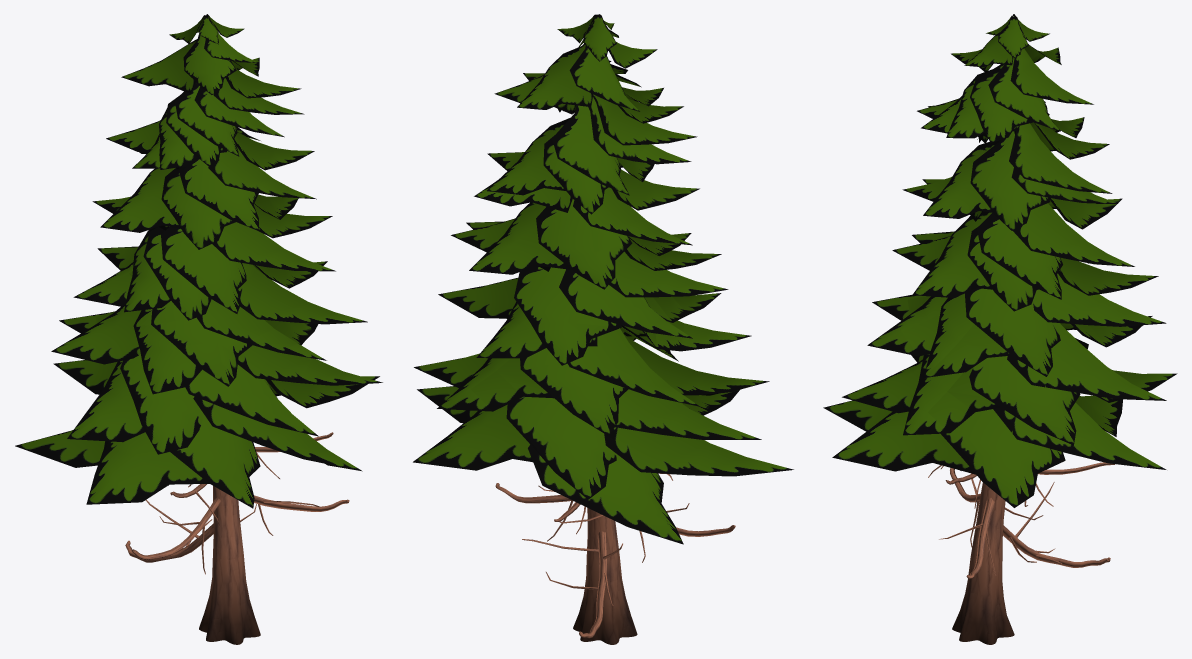
File: pine_4.gltf
3 renders of one model, left to right at view 1: azimuth 30°, elevation 25°; view 2: azimuth 150°, elevation 25°; view 3: azimuth 270°, elevation 25°, orthographic. The views are drawn at different scales.
Parts seen in each view (by area): view 1: Pine_4; view 2: Pine_4; view 3: Pine_4.
Part boxes in pixels (x1=…): Pine_4: x1=15, y1=14, x2=382, y2=644; Pine_4: x1=413, y1=14, x2=793, y2=644; Pine_4: x1=823, y1=14, x2=1177, y2=644.
Bounding box in the file's own units: 5.8 × 10.24 × 5.37.
2 materials, 2 textured.
